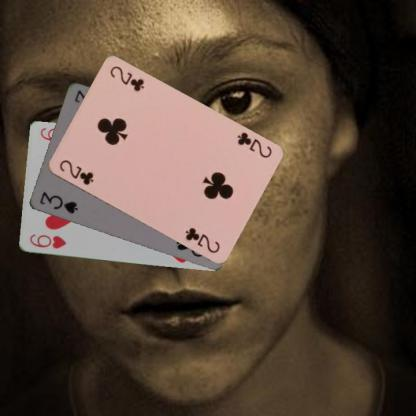2c: (234, 130, 273, 160), (56, 157, 94, 187)
3s: (36, 189, 80, 215)
6h: (27, 232, 67, 250)
